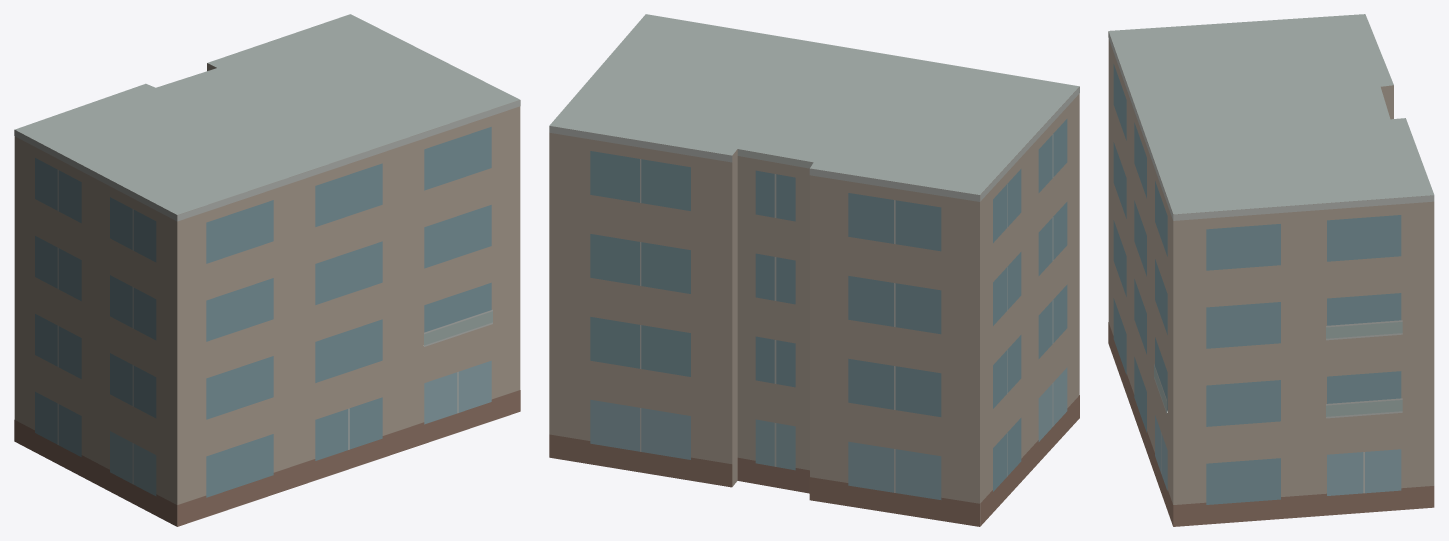
The model's file is survey-upis-32714473.glb.
The picture shows the model from 3 angles, left to right: view 1: azimuth 30°, elevation 25°; view 2: azimuth 150°, elevation 25°; view 3: azimuth 270°, elevation 25°; orthographic projection. The views are drawn at different scales.
Visible parts, largest first — view 1: survey-upis-32714473.tmp; view 2: survey-upis-32714473.tmp; view 3: survey-upis-32714473.tmp.
Part boxes in pixels (x1,y1,x2,y2): survey-upis-32714473.tmp: [14, 14, 520, 526]; survey-upis-32714473.tmp: [549, 14, 1079, 526]; survey-upis-32714473.tmp: [1108, 14, 1434, 526].
Size of the model in its own units: 16.11 by 11.7 by 11.07.
